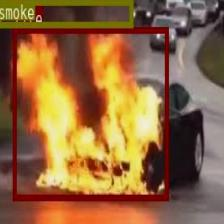fire: (12, 26, 168, 199)
smoke: (0, 0, 132, 26)
